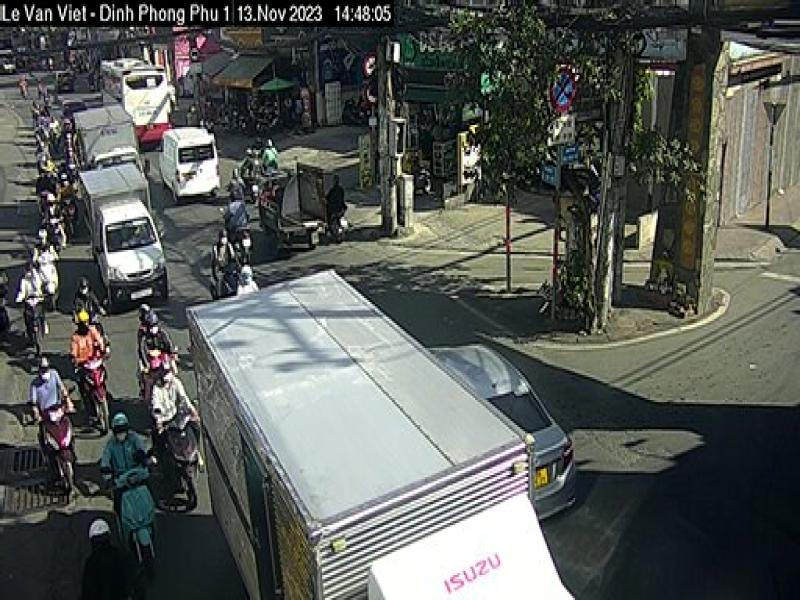truck: (78, 160, 172, 313)
